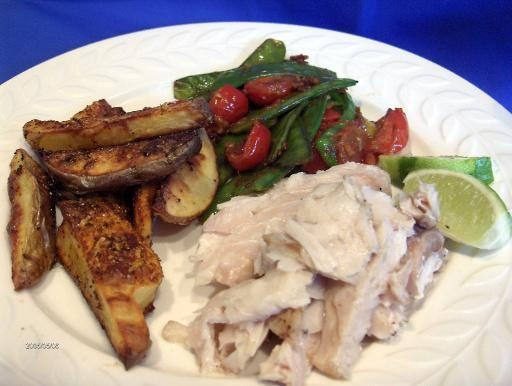background: (4, 22, 409, 232)
